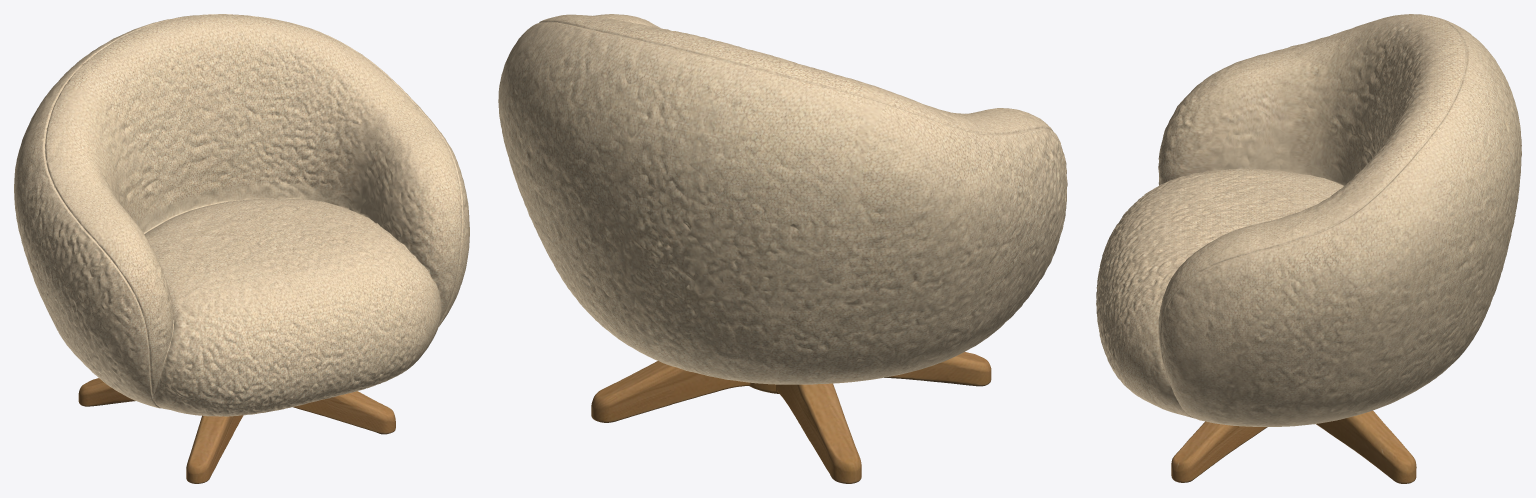
The model's file is accent_chair.glb.
3 renders of one model, left to right at view 1: azimuth 30°, elevation 25°; view 2: azimuth 150°, elevation 25°; view 3: azimuth 270°, elevation 25°, orthographic. The views are drawn at different scales.
Parts seen in each view (by area): view 1: Fabric, Wood; view 2: Fabric, Wood; view 3: Fabric, Wood.
Boxes of the visible parts, bbox=[...] form: Fabric: bbox=[14, 14, 469, 416]; Wood: bbox=[78, 378, 395, 483]; Fabric: bbox=[498, 14, 1067, 384]; Wood: bbox=[591, 352, 991, 483]; Fabric: bbox=[1096, 14, 1521, 426]; Wood: bbox=[1171, 410, 1416, 483].
Bounding box in the file's own units: 0.9505 × 0.78 × 0.8022.
Materials: 2 (2 with a texture image).
